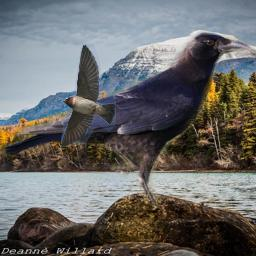Crow: (0, 30, 253, 211)
Swallow: (61, 44, 116, 147)
